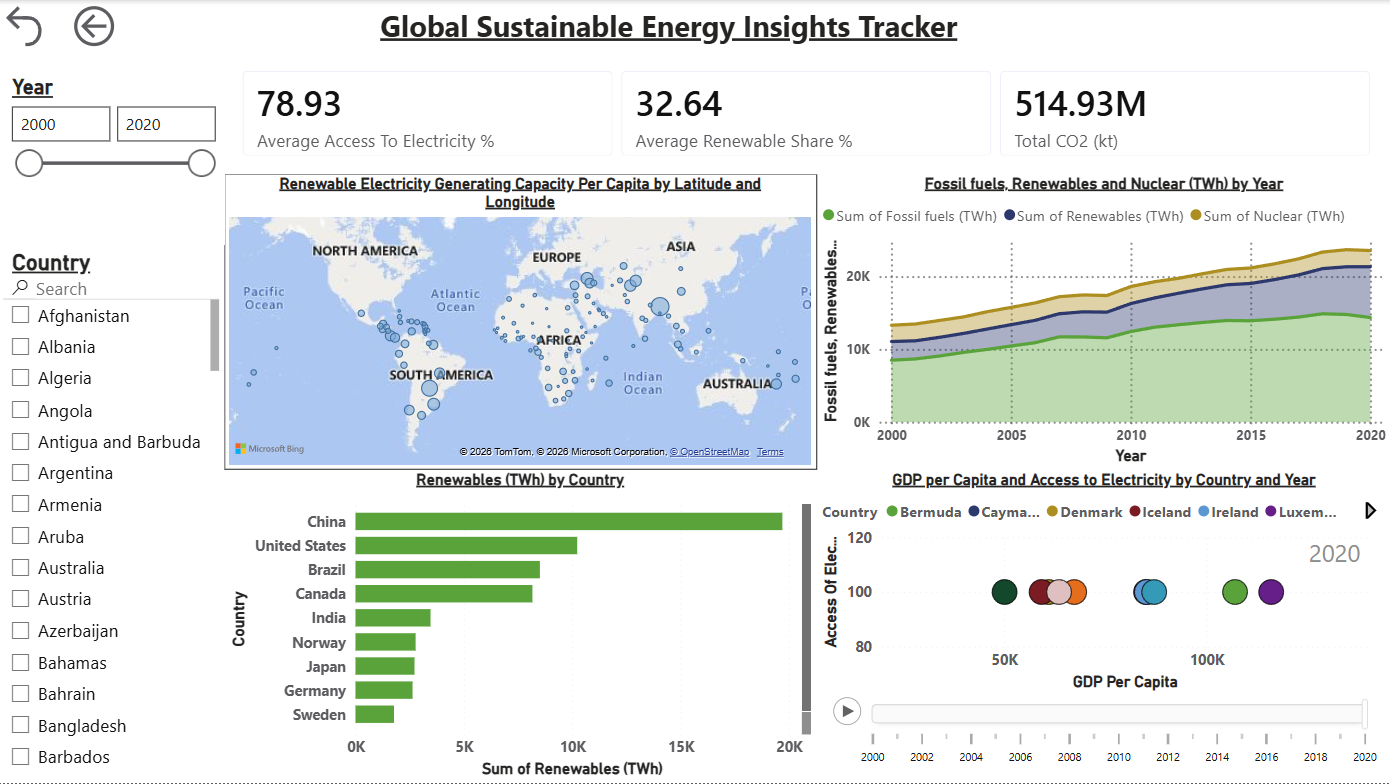

What the dashboard file says about the page in this screenshot:
{"tool":"powerbi","page":{"name":"Page 1","canvas":[1280,720],"ordinal":0},"visuals":[{"type":"stackedAreaChart","title":"Fossil fuels, Renewables and Nuclear (TWh) by Year","fields":{"Category":["global-data-on-sustainable-energy (1).Year"],"Y":["Sum(global-data-on-sustainable-energy (1).Fossil fuels (TWh))","Sum(global-data-on-sustainable-energy (1).Renewables (TWh))","Sum(global-data-on-sustainable-energy (1).Nuclear (TWh))"]},"box":[752,160,528,272],"z":0},{"type":"scatterChart","title":"GDP per Capita and Access to Electricity by Country and Year","fields":{"X":["Sum(global-data-on-sustainable-energy (1).gdp_per_capita)"],"Y":["Sum(global-data-on-sustainable-energy (1).Access to electricity (% of population))"],"Series":["global-data-on-sustainable-energy (1).Entity"],"Play":["global-data-on-sustainable-energy (1).Year"]},"box":[752,432,528,288],"z":1000},{"type":"clusteredBarChart","title":"Renewables (TWh) by Country","fields":{"Category":["global-data-on-sustainable-energy (1).Entity"],"Y":["Sum(global-data-on-sustainable-energy (1).Renewables (TWh))"]},"box":[208,432,544,288],"z":2000},{"type":"map","title":"Renewable Electricity Generating Capacity Per Capita by Latitude and Longitude","fields":{"Y":["global-data-on-sustainable-energy (1).Latitude"],"X":["global-data-on-sustainable-energy (1).Longitude"],"Size":["Sum(global-data-on-sustainable-energy (1).Renewable-electricity-generating-capacity-per-capita)"]},"box":[208,160,544,272],"z":3000},{"type":"slicer","fields":{"Values":["global-data-on-sustainable-energy (1).Year"]},"box":[0,64,208,160],"z":4000},{"type":"slicer","fields":{"Values":["global-data-on-sustainable-energy (1).Country"]},"box":[0,224,208,496],"z":5000},{"type":"textbox","box":[304,0,624,48],"z":6000},{"type":"cardVisual","fields":{"Data":["measure.Average Access To Electricity","measure.Average Renewable Share %","measure.Total CO2 (kt)"]},"box":[208,48,1072,112],"z":7000},{"type":"actionButton","box":[0,0,48,48],"z":8000},{"type":"actionButton","box":[64,0,48,48],"z":9000}]}

Visuals, with their boxes on the page's 1280x720 design canvas (x1, y1, x2, y2). These are canvas units, not pixel positions in the 1390x784 screenshot, which may show the page scaled, cropped or inside an application window:
"Fossil fuels, Renewables and Nuclear (TWh) by Year" stackedAreaChart: region(752, 160, 1280, 432)
"GDP per Capita and Access to Electricity by Country and Year" scatterChart: region(752, 432, 1280, 720)
"Renewables (TWh) by Country" clusteredBarChart: region(208, 432, 752, 720)
"Renewable Electricity Generating Capacity Per Capita by Latitude and Longitude" map: region(208, 160, 752, 432)
slicer - global-data-on-sustainable-energy (1).Year: region(0, 64, 208, 224)
slicer - global-data-on-sustainable-energy (1).Country: region(0, 224, 208, 720)
textbox: region(304, 0, 928, 48)
cardVisual - measure.Average Access To Electricity x measure.Average Renewable Share %: region(208, 48, 1280, 160)
actionButton: region(0, 0, 48, 48)
actionButton: region(64, 0, 112, 48)
